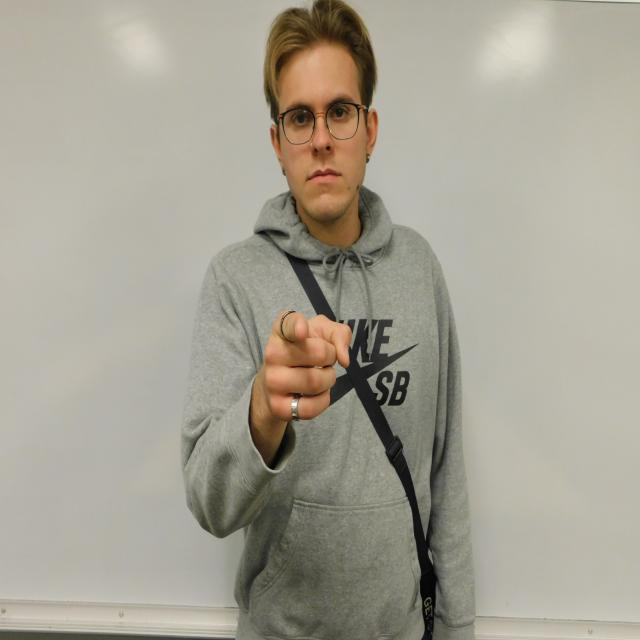you: (265, 309, 353, 421)
